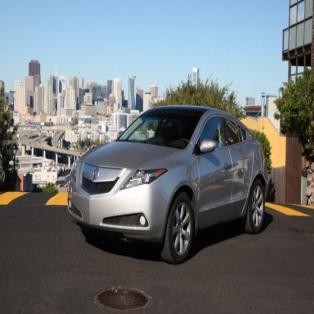Auto: (68, 106, 269, 266)
